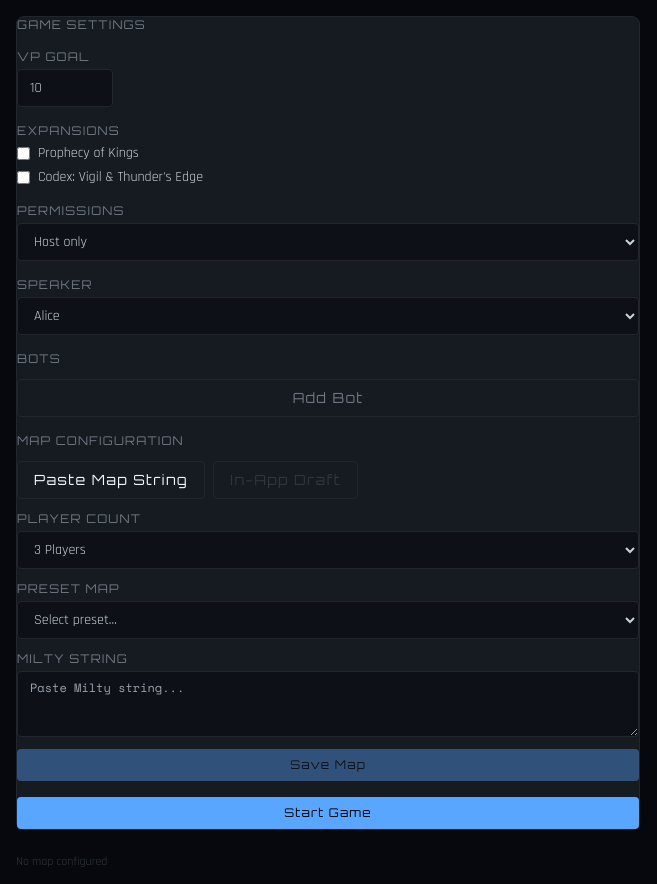
LobbyScreen — map builder (host only) › Save Map button enabled with valid map string
(page scrolled)
Type "18 36 30" into the text box with placeholder "Paste Milty string..." at coordinates (328, 704), box [17,671,639,737]
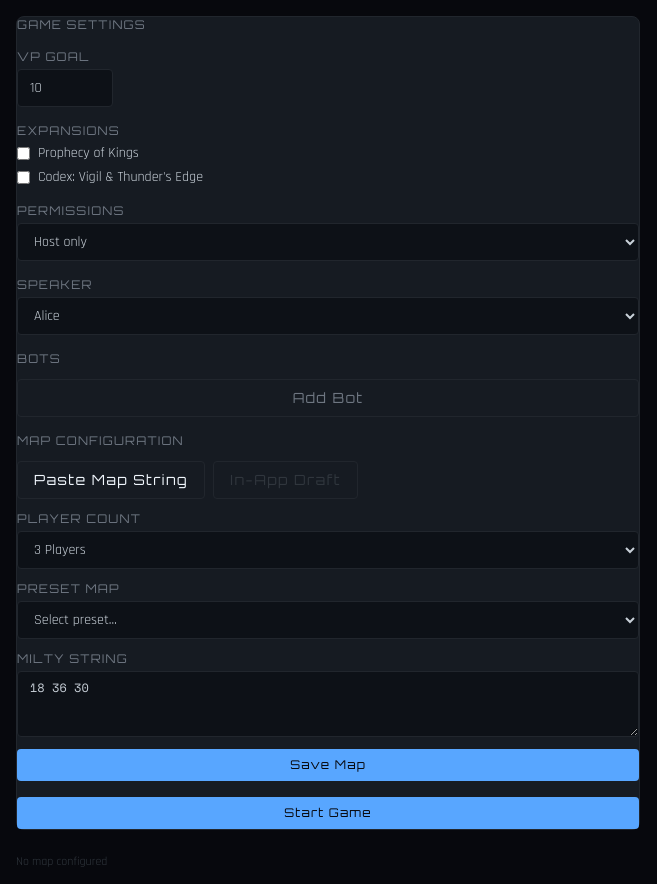
Result: the button "Save Map" is enabled at [17,749,639,781]
